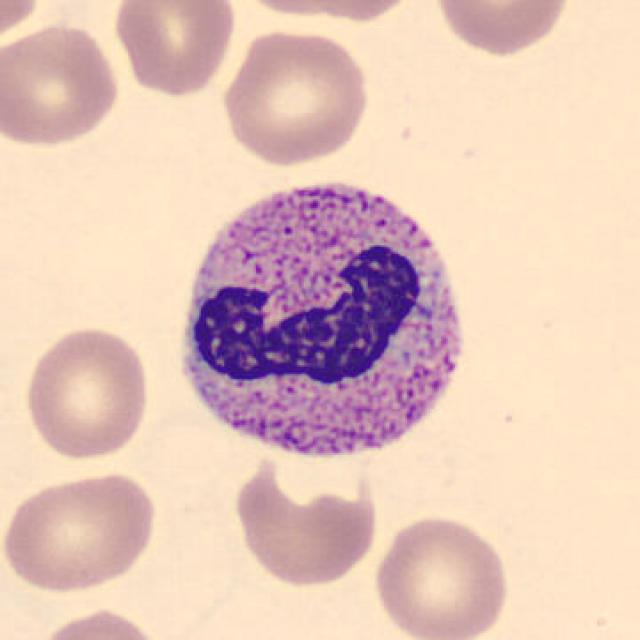Neutrophil: (164, 158, 484, 480)
RBC: (219, 23, 373, 167), (228, 451, 384, 591), (0, 467, 162, 596), (19, 323, 154, 462), (370, 511, 514, 640), (0, 17, 124, 149), (108, 0, 240, 99), (428, 0, 574, 58), (226, 0, 425, 25), (31, 604, 165, 640), (0, 0, 50, 46)
